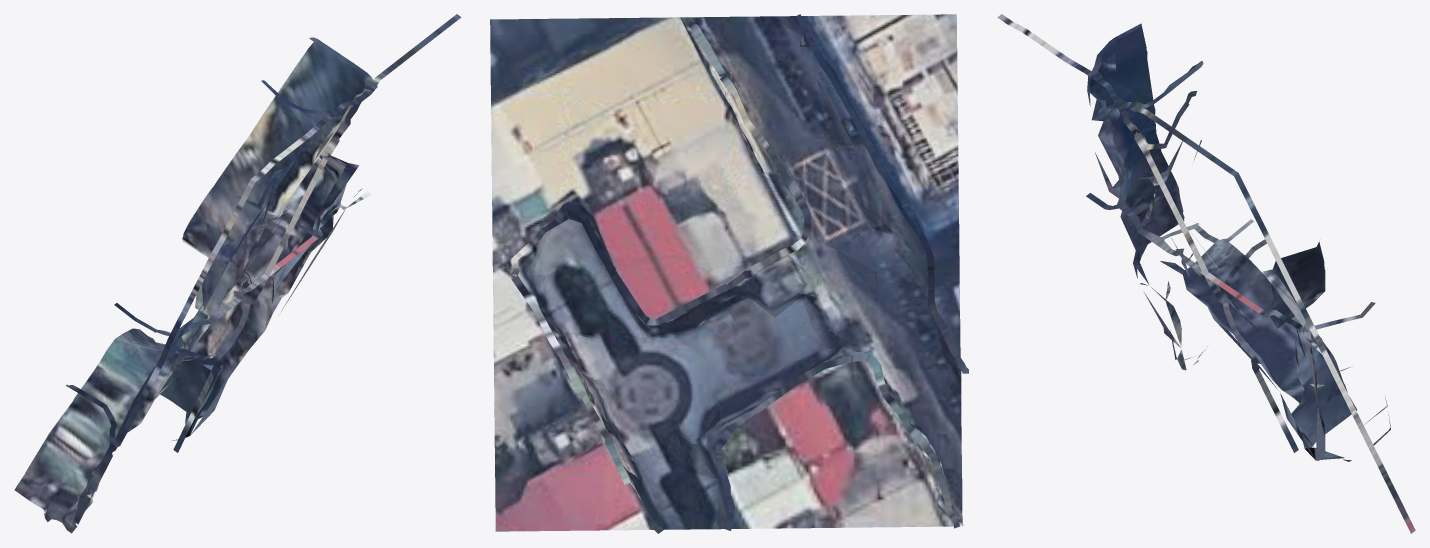
3 renders of one model, left to right at view 1: azimuth 30°, elevation 25°; view 2: azimuth 150°, elevation 25°; view 3: azimuth 270°, elevation 25°, orthographic. The views are drawn at different scales.
Size of the model in its own units: 40.56 by 37.23 by 32.42.
Materials: 1 (1 with a texture image).
